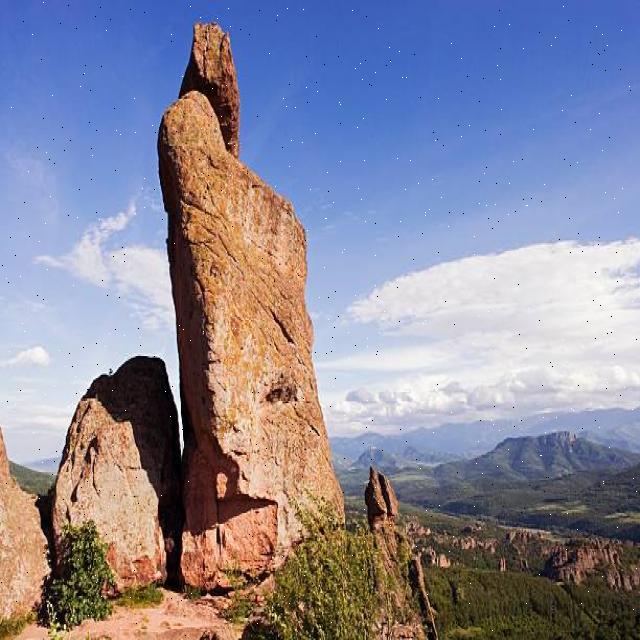Sedimentary: (150, 14, 363, 598), (51, 345, 182, 612), (366, 460, 403, 535)
